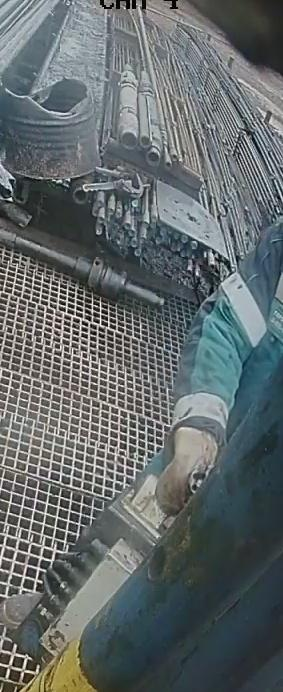gloves: (153, 425, 219, 516)
vest: (183, 213, 282, 416)
